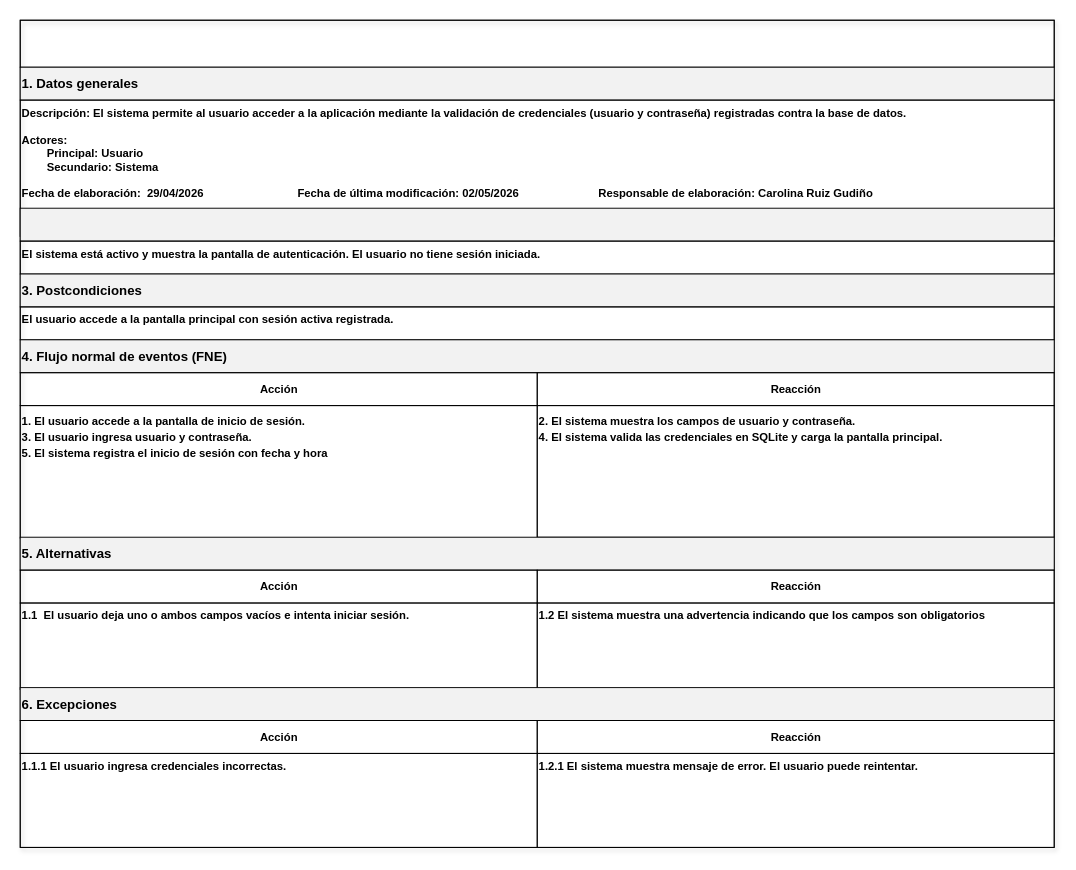
Some shapes in this 1076 by 870 pixel diagram are drawn without their labels. Each missing label, with the centre of its shape:
"2. Precondiciones" belongs at (536,224).
"TDCU-01 – Iniciar sesión" belongs at (536,43).
